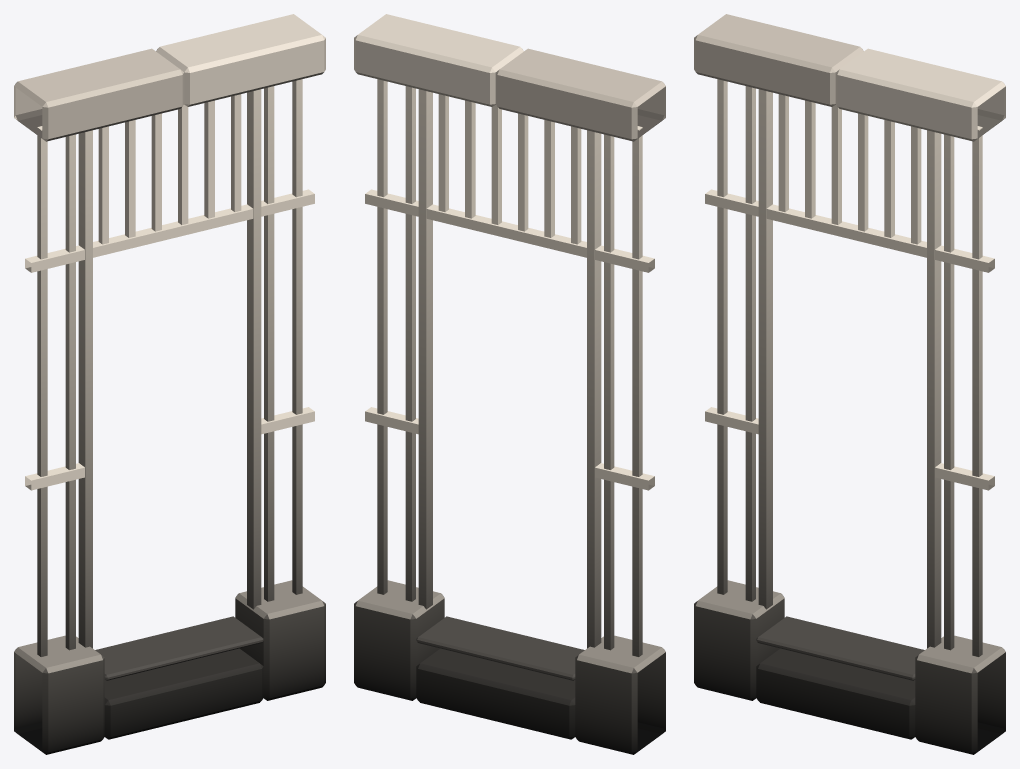
Rendered from SM_VKI_Wall_Bars_Door_150_Full.fbx.
The picture shows the model from 3 angles, left to right: view 1: azimuth 30°, elevation 25°; view 2: azimuth 150°, elevation 25°; view 3: azimuth 330°, elevation 25°; orthographic projection.
Visible parts, largest first — view 1: SM_VKI_Wall_Bars_Door_150_Full.001; view 2: SM_VKI_Wall_Bars_Door_150_Full.001; view 3: SM_VKI_Wall_Bars_Door_150_Full.001.
Part boxes in pixels (box(x1,y1,x2,y2)): SM_VKI_Wall_Bars_Door_150_Full.001: box(14, 14, 325, 754); SM_VKI_Wall_Bars_Door_150_Full.001: box(354, 14, 665, 754); SM_VKI_Wall_Bars_Door_150_Full.001: box(694, 14, 1005, 754).
Size of the model in its own units: 1.5 by 3.3 by 0.3.
